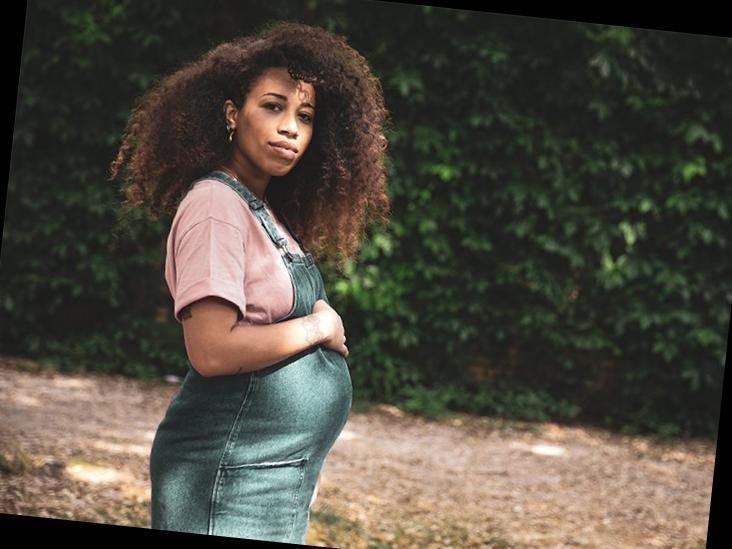Sober: (239, 80, 316, 175)
